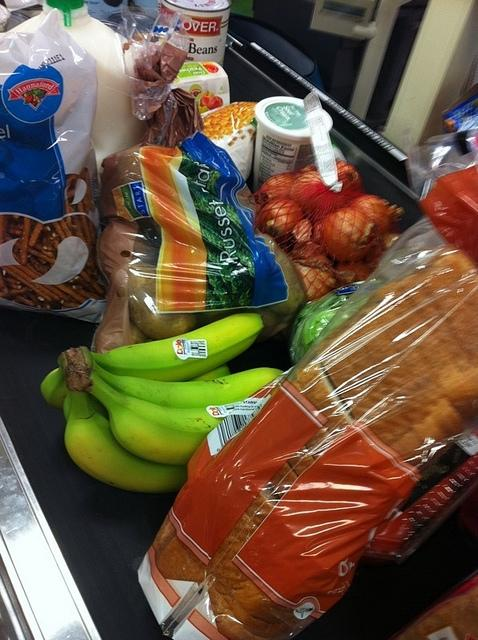banana: (89, 370, 243, 467), (68, 312, 266, 382), (65, 391, 188, 494), (93, 362, 284, 408), (40, 352, 68, 409), (63, 391, 110, 422), (184, 362, 230, 382)
lettuce: (290, 281, 365, 364)
onion: (311, 206, 379, 263), (292, 254, 356, 302), (289, 170, 343, 224), (256, 196, 304, 242), (254, 172, 302, 205), (359, 202, 393, 236), (336, 160, 364, 192)
potato: (111, 263, 197, 341), (256, 232, 308, 316), (95, 309, 154, 354), (132, 230, 162, 266)
